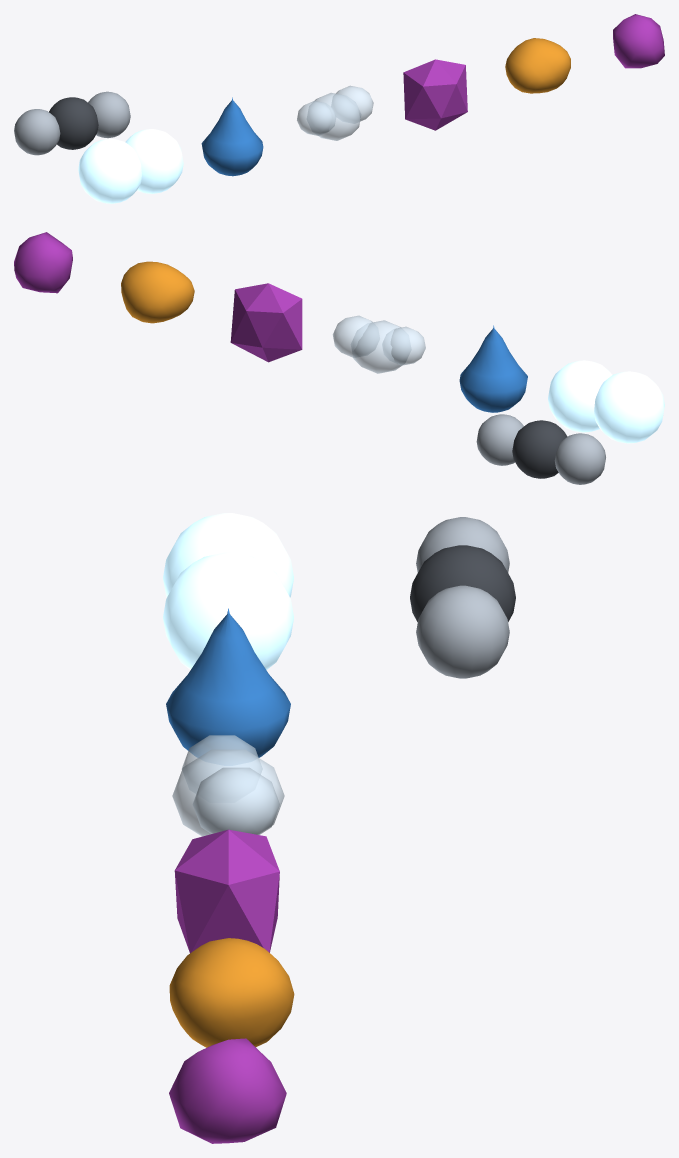
The model's file is 17_waste_visuals.glb.
The picture shows the model from 3 angles, top to bottom: view 1: azimuth 30°, elevation 25°; view 2: azimuth 150°, elevation 25°; view 3: azimuth 270°, elevation 25°; orthographic projection. The views are drawn at different scales.
Visible parts, largest first — view 1: O2_Molecule, CO2_Molecule, Waste_Crystal, Water_Droplet, Vapour_Puff, Resin_Drop, Soil_Waste_Particle; view 2: O2_Molecule, CO2_Molecule, Waste_Crystal, Vapour_Puff, Water_Droplet, Resin_Drop, Soil_Waste_Particle; view 3: O2_Molecule, CO2_Molecule, Water_Droplet, Waste_Crystal, Resin_Drop, Soil_Waste_Particle, Vapour_Puff.
Part boxes in pixels (x1,y1,x2,y2): O2_Molecule: (78, 129, 183, 203); CO2_Molecule: (14, 91, 130, 155); Waste_Crystal: (403, 59, 467, 130); Water_Droplet: (201, 97, 263, 176); Vapour_Puff: (297, 85, 373, 140); Resin_Drop: (505, 38, 570, 93); Soil_Waste_Particle: (613, 14, 664, 68); O2_Molecule: (548, 360, 664, 443); CO2_Molecule: (476, 414, 605, 484); Waste_Crystal: (230, 283, 302, 362); Vapour_Puff: (332, 315, 425, 373); Water_Droplet: (459, 325, 527, 412); Resin_Drop: (121, 261, 194, 323); Soil_Waste_Particle: (14, 232, 72, 293); O2_Molecule: (163, 513, 293, 669); CO2_Molecule: (410, 517, 515, 678); Water_Droplet: (166, 608, 290, 757); Waste_Crystal: (174, 829, 279, 953); Resin_Drop: (169, 938, 294, 1047); Soil_Waste_Particle: (169, 1038, 286, 1143); Vapour_Puff: (172, 735, 284, 836).
Size of the model in its own units: 8.64 by 1.18 by 2.26.
